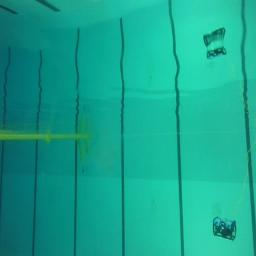front: (212, 217, 237, 242)
